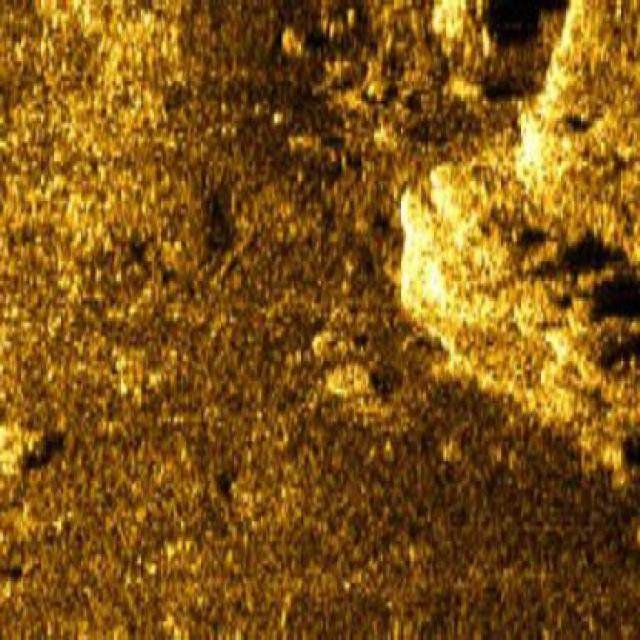bedrock group: (386, 0, 637, 477)
